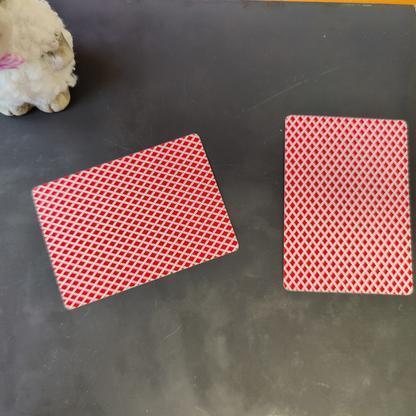card: (17, 125, 252, 317), (270, 101, 416, 308)
